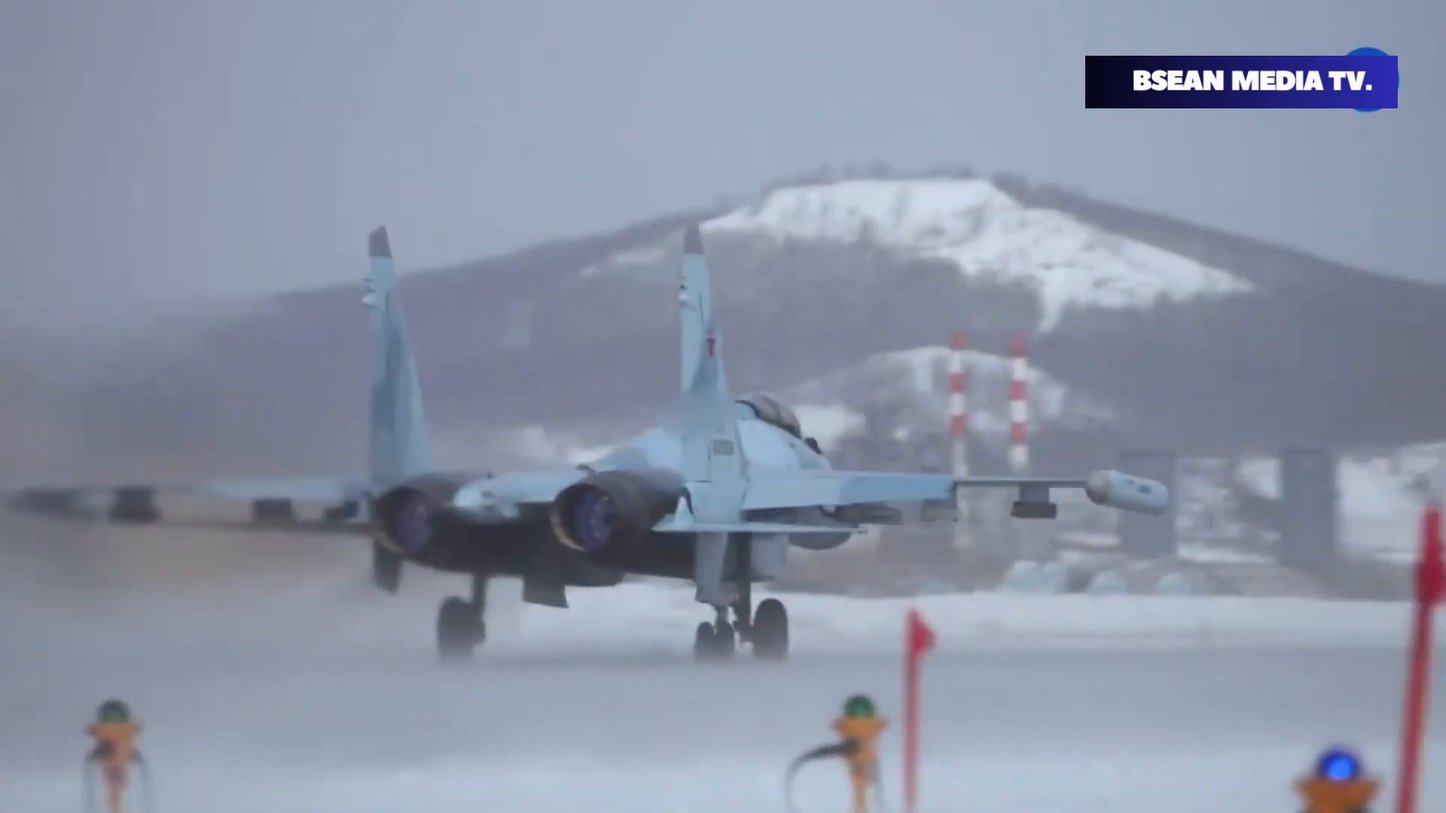Su35: (2, 222, 1169, 671)
